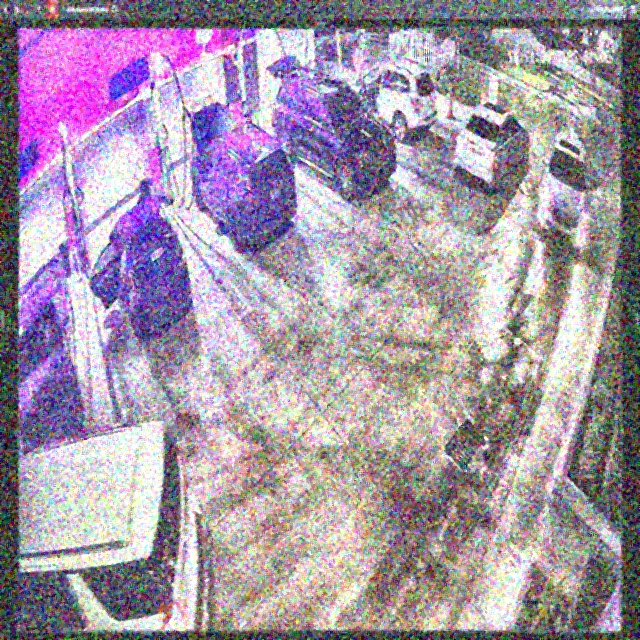Car: (18, 414, 207, 631), (271, 52, 396, 194), (192, 107, 294, 249), (91, 192, 191, 335), (456, 108, 525, 186)
